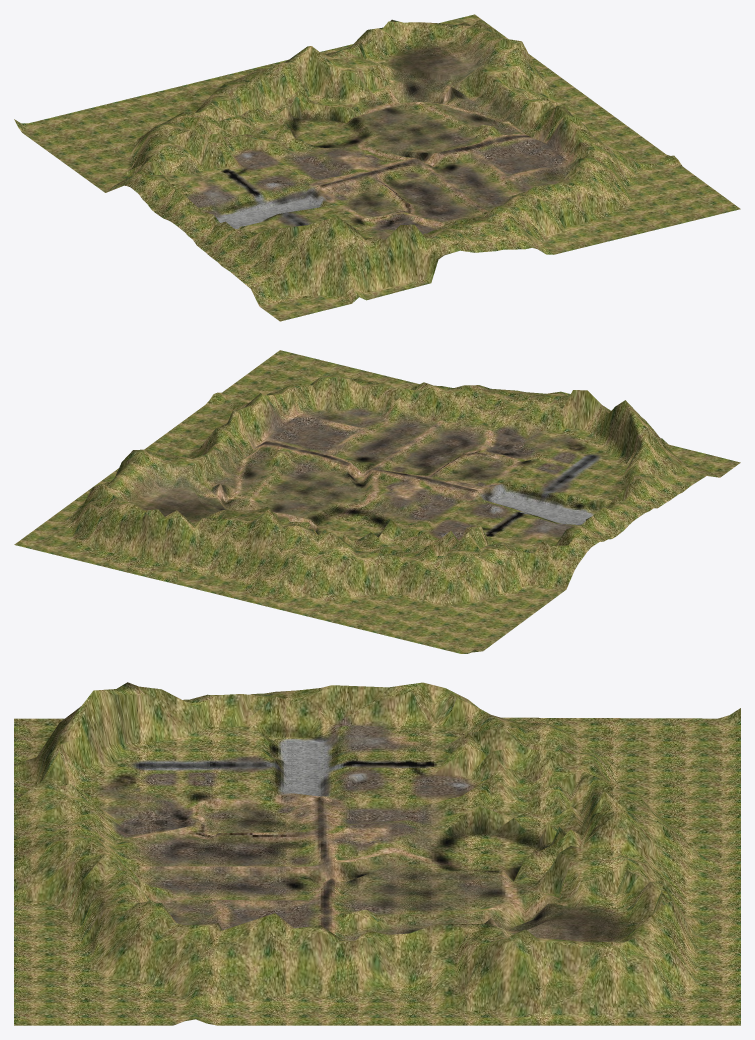
3 renders of one model, top to bottom at view 1: azimuth 30°, elevation 25°; view 2: azimuth 150°, elevation 25°; view 3: azimuth 270°, elevation 25°, orthographic. The views are drawn at different scales.
Visible parts, largest first — view 1: Mesh; view 2: Mesh; view 3: Mesh.
Part boxes in pixels (x1,y1,x2,y2): Mesh: (14, 14, 740, 321); Mesh: (14, 350, 740, 653); Mesh: (14, 682, 740, 1025).
Size of the model in its own units: 130 by 16.9 by 130.
1 material, 1 textured.
